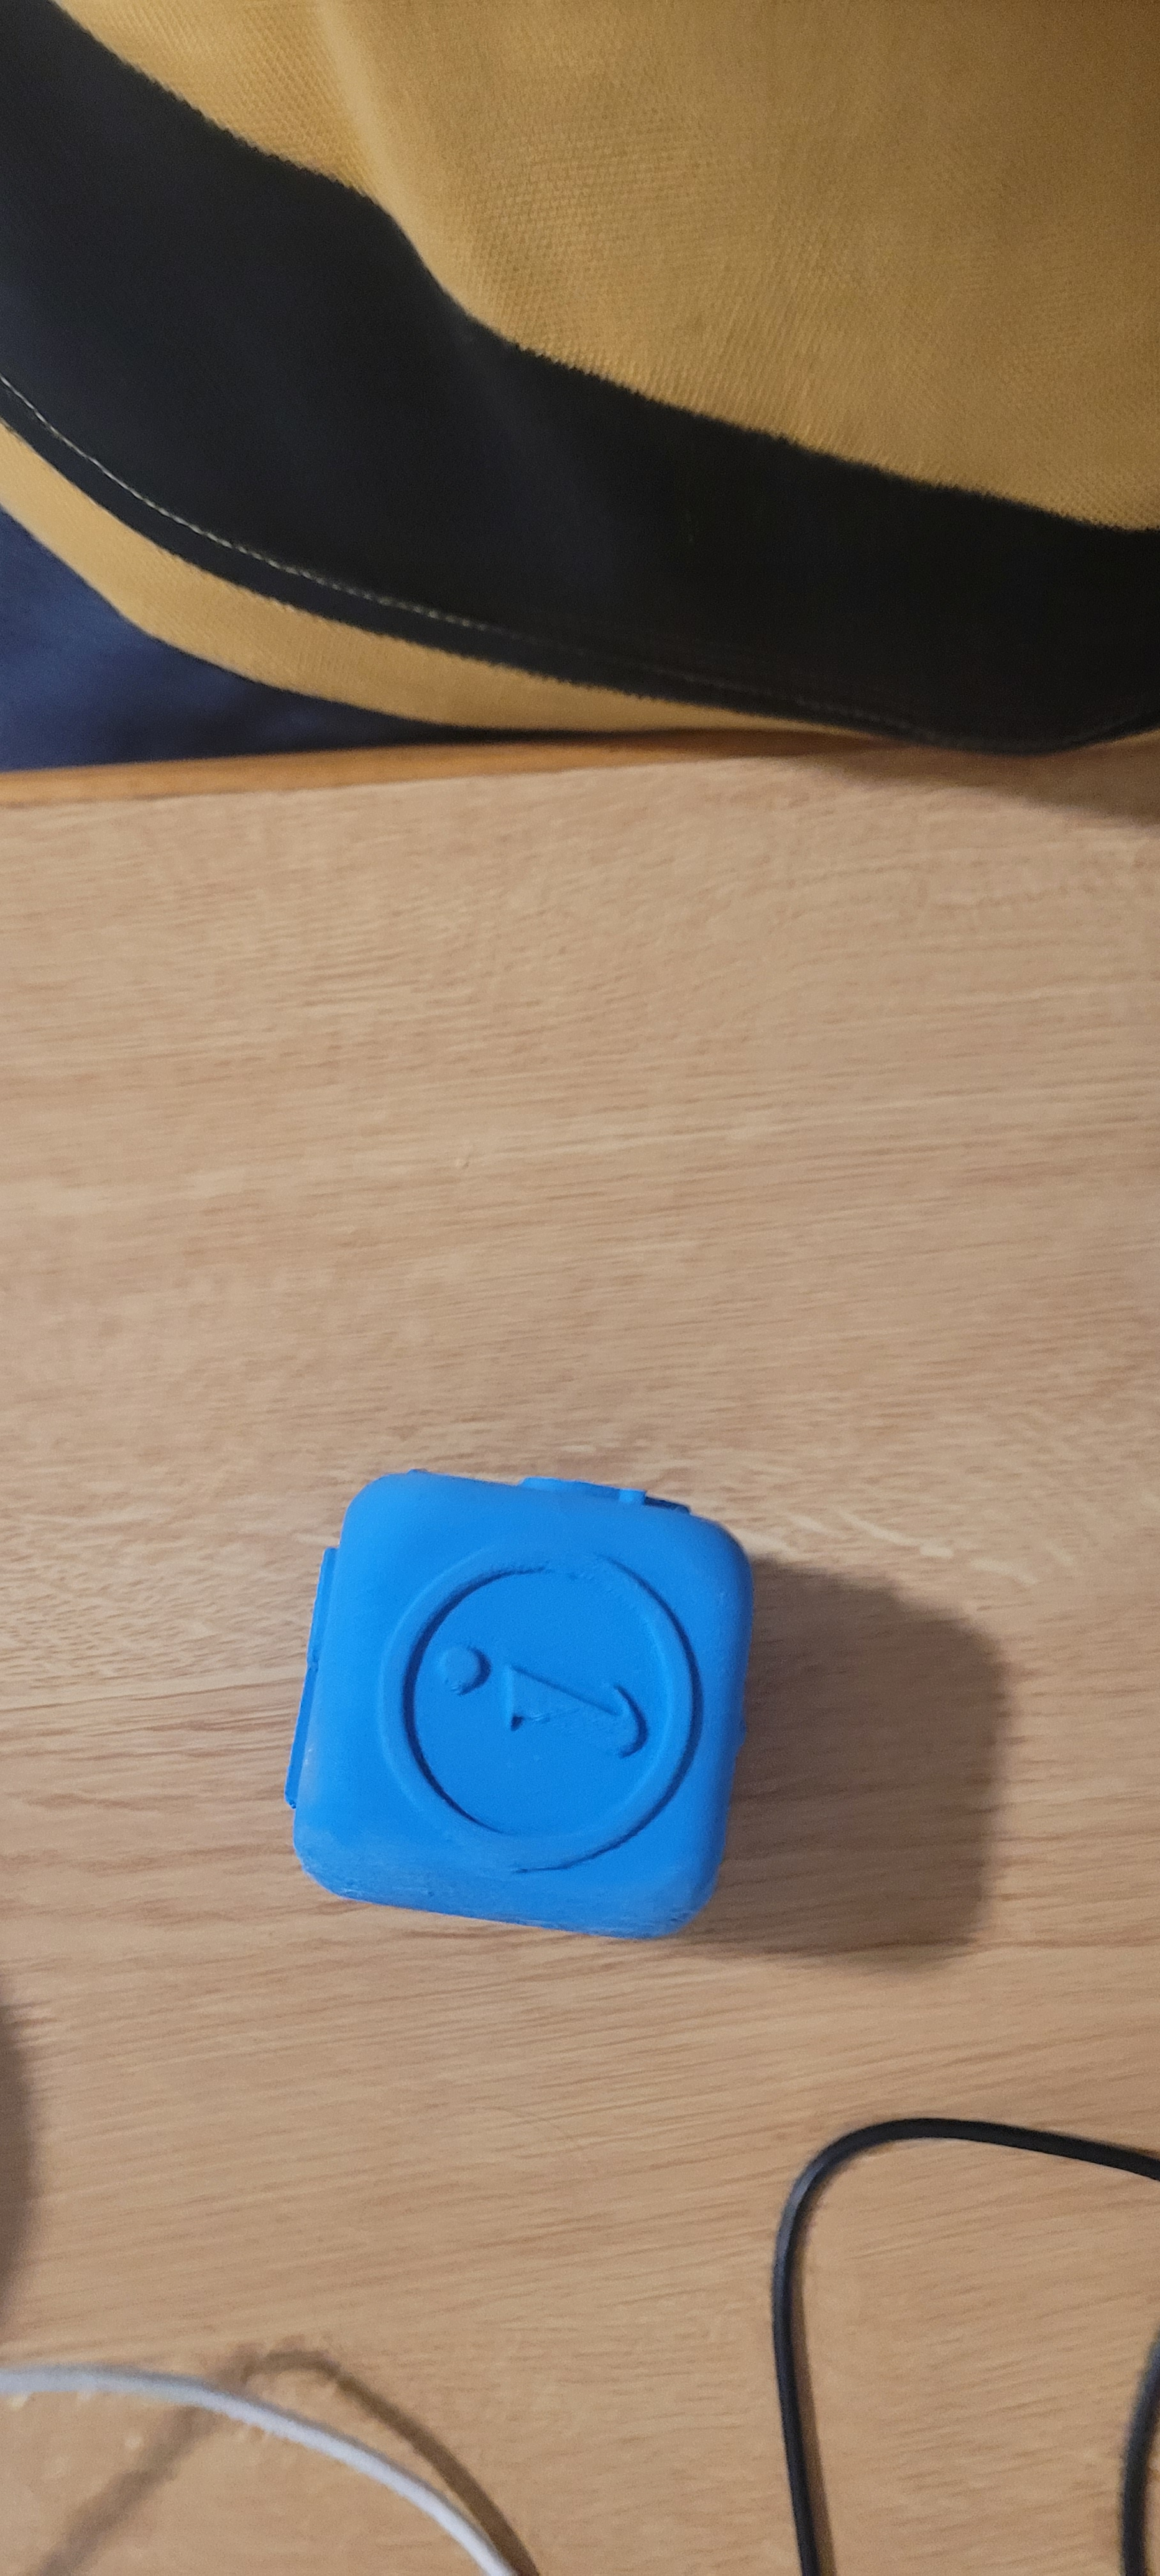Info: (370, 1506, 718, 1901)
